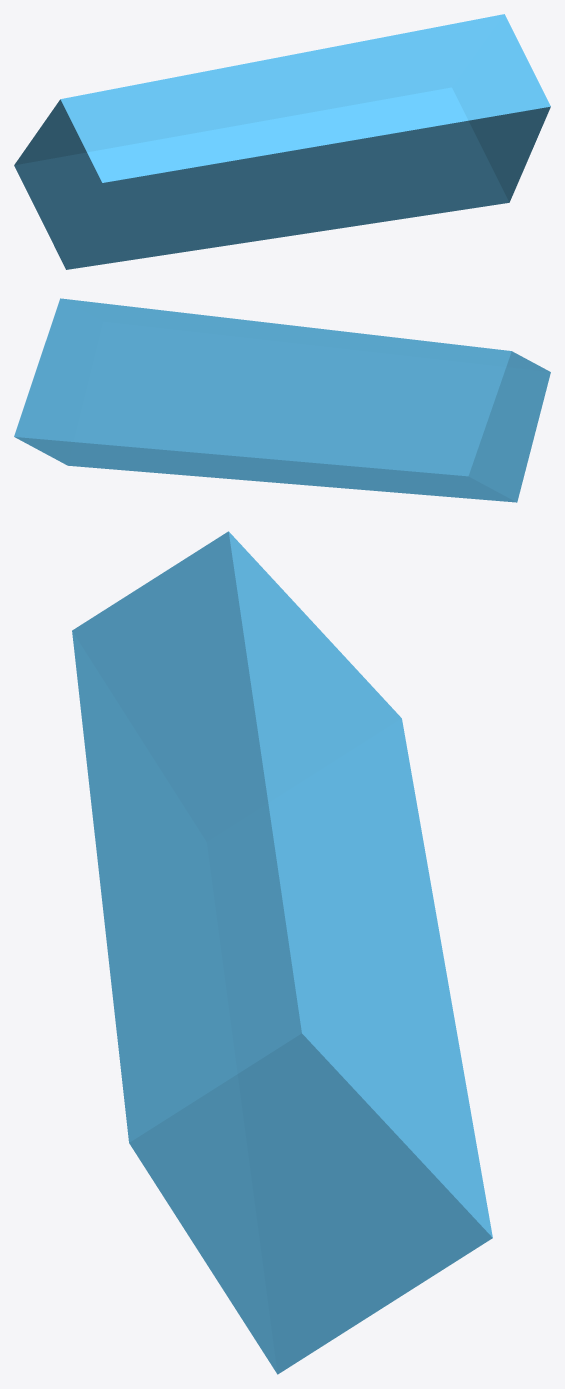
Rendered from Event_421364160_HErechit_27.fbx.
The picture shows the model from 3 angles, top to bottom: view 1: azimuth 30°, elevation 25°; view 2: azimuth 150°, elevation 25°; view 3: azimuth 270°, elevation 25°; orthographic projection. The views are drawn at different scales.
Visible parts, largest first — view 1: Model; view 2: Model; view 3: Model.
Part boxes in pixels (x1,y1,x2,y2): Model: (14,14,550,269); Model: (14,298,550,502); Model: (72,531,492,1374).
Size of the model in its own units: 1.06 by 0.4924 by 0.445.
